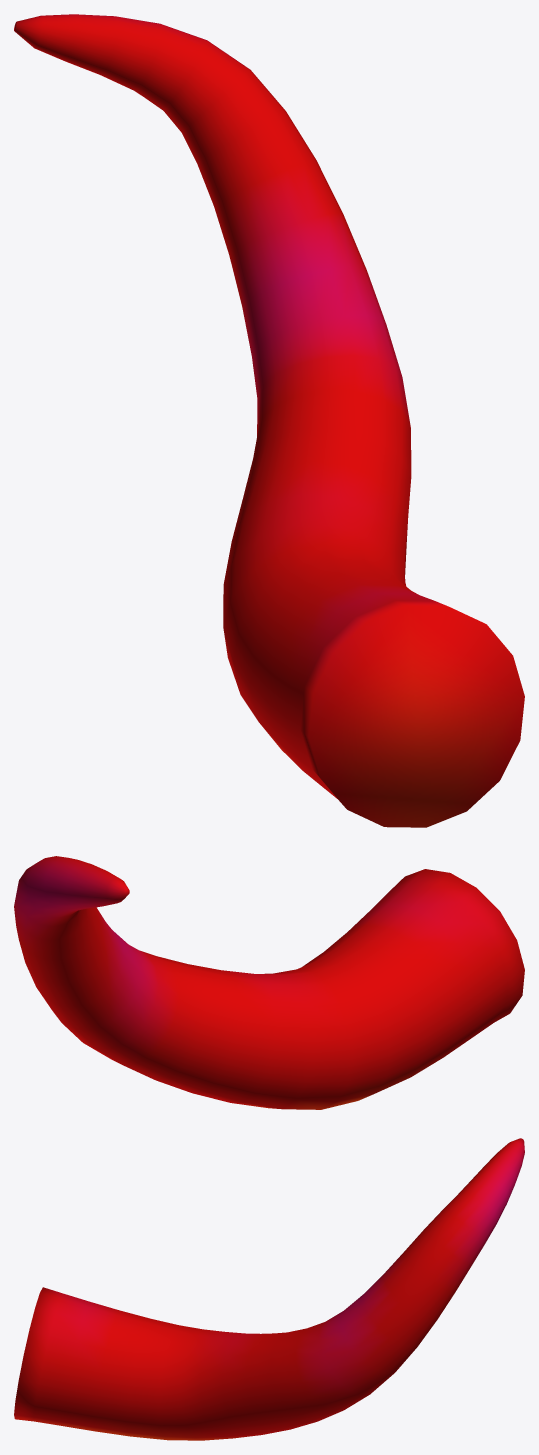
Rendered from GXR_TAIL_04_SERPENT.glb.
3 renders of one model, top to bottom at view 1: azimuth 30°, elevation 25°; view 2: azimuth 150°, elevation 25°; view 3: azimuth 270°, elevation 25°, orthographic. The views are drawn at different scales.
Parts seen in each view (by area): view 1: Mesh_Tail_surface.002; view 2: Mesh_Tail_surface.002; view 3: Mesh_Tail_surface.002.
Boxes of the visible parts, box(x1,y1,x2,y2) form: Mesh_Tail_surface.002: box(14, 14, 524, 827); Mesh_Tail_surface.002: box(14, 856, 524, 1109); Mesh_Tail_surface.002: box(14, 1138, 524, 1440).
Bounding box in the file's own units: 0.2464 × 0.3372 × 0.529.
